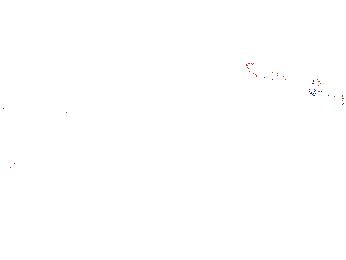X-ray fish: (80, 107, 113, 147)
redtail glassfish: (242, 60, 324, 89), (306, 81, 344, 106)
